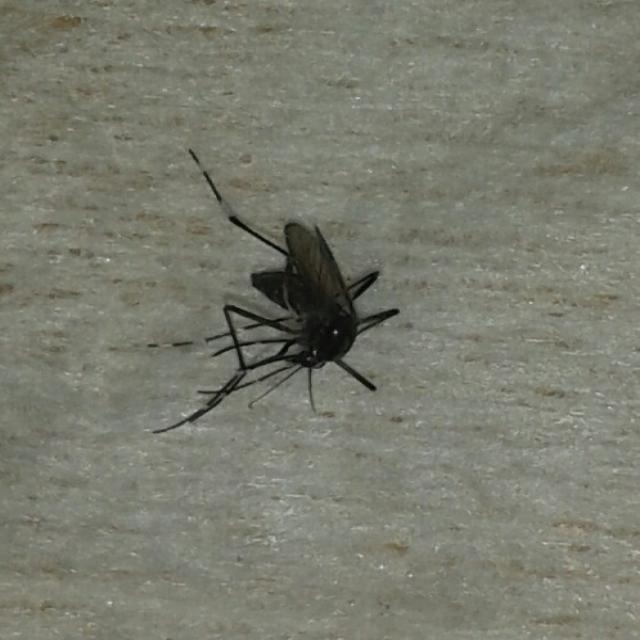albopictus: (122, 142, 406, 438)
